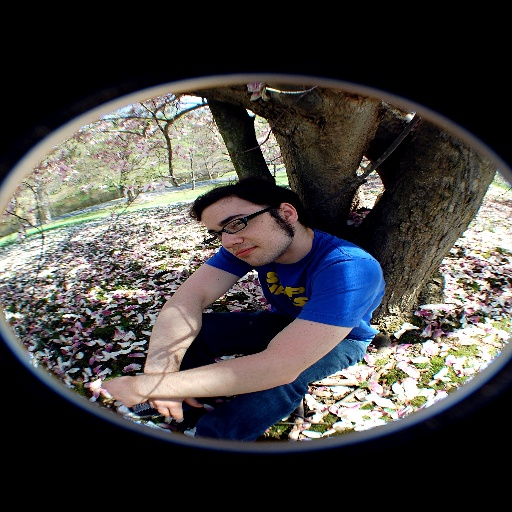hand: (87, 373, 146, 404), (148, 397, 203, 421)
